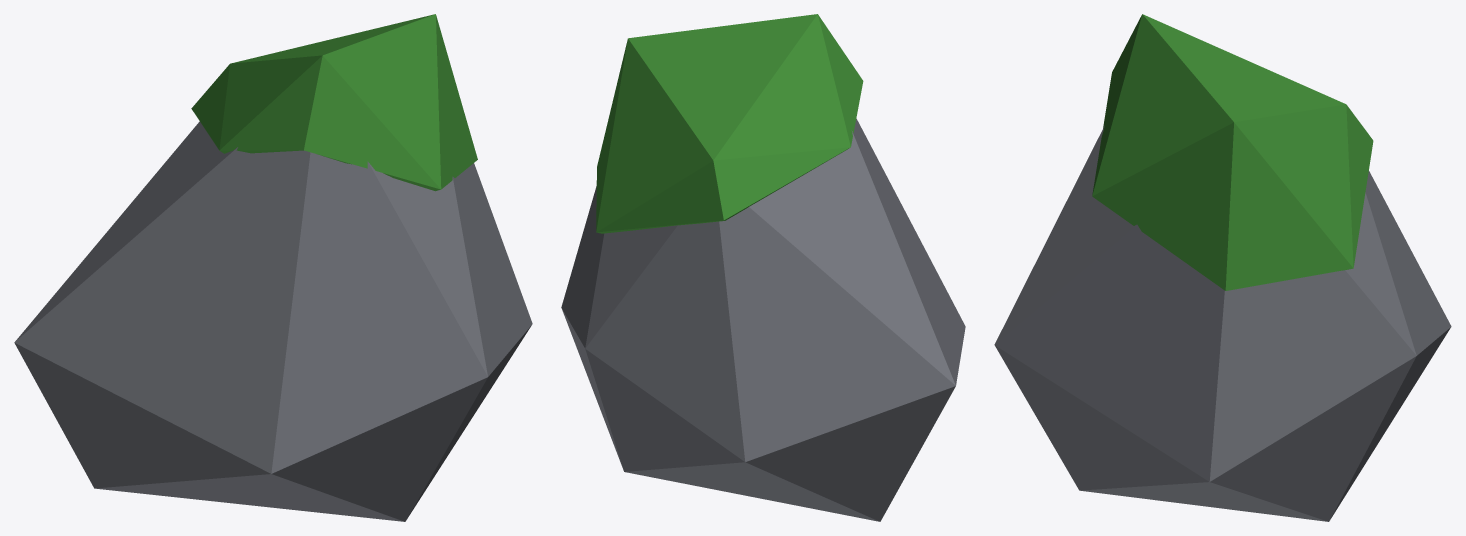
Rendered from rock_1.fbx.
3 views of the same model, side by side, from view 1: azimuth 30°, elevation 25°; view 2: azimuth 150°, elevation 25°; view 3: azimuth 270°, elevation 25° (orthographic). The views are drawn at different scales.
Visible parts, largest first — view 1: rock1; view 2: rock1; view 3: rock1.
Part boxes in pixels (bbox=[...]): rock1: bbox=[14, 14, 532, 521]; rock1: bbox=[561, 14, 965, 521]; rock1: bbox=[994, 14, 1451, 521].
Bounding box in the file's own units: 172 × 145 × 158.
